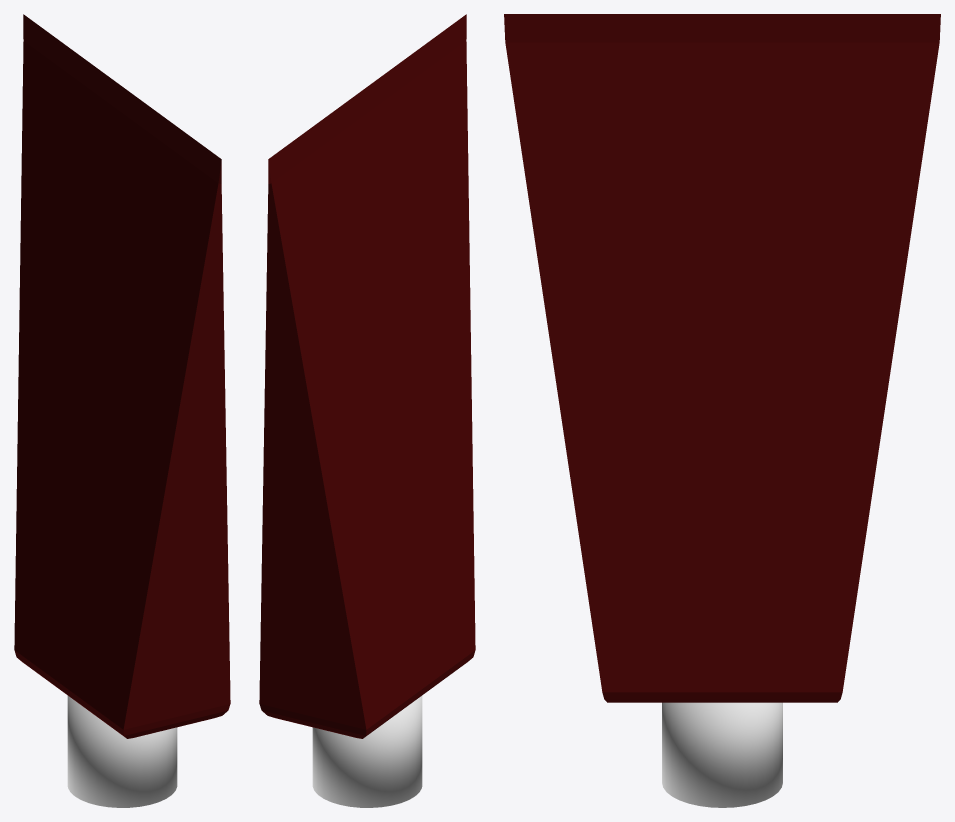
The model's file is cream.glb.
The picture shows the model from 3 angles, left to right: view 1: azimuth 30°, elevation 25°; view 2: azimuth 150°, elevation 25°; view 3: azimuth 270°, elevation 25°; orthographic projection. The views are drawn at different scales.
Parts seen in each view (by area): view 1: Cube, Cylinder; view 2: Cube, Cylinder; view 3: Cube, Cylinder.
Part boxes in pixels (left/top/right/bottom): Cube: left=14, top=14, right=230, bottom=738; Cylinder: left=67, top=695, right=177, bottom=807; Cube: left=259, top=14, right=475, bottom=738; Cylinder: left=312, top=695, right=422, bottom=807; Cube: left=504, top=14, right=940, bottom=702; Cylinder: left=662, top=702, right=782, bottom=807.
Size of the model in its own units: 0.173 by 1.08 by 0.556.
